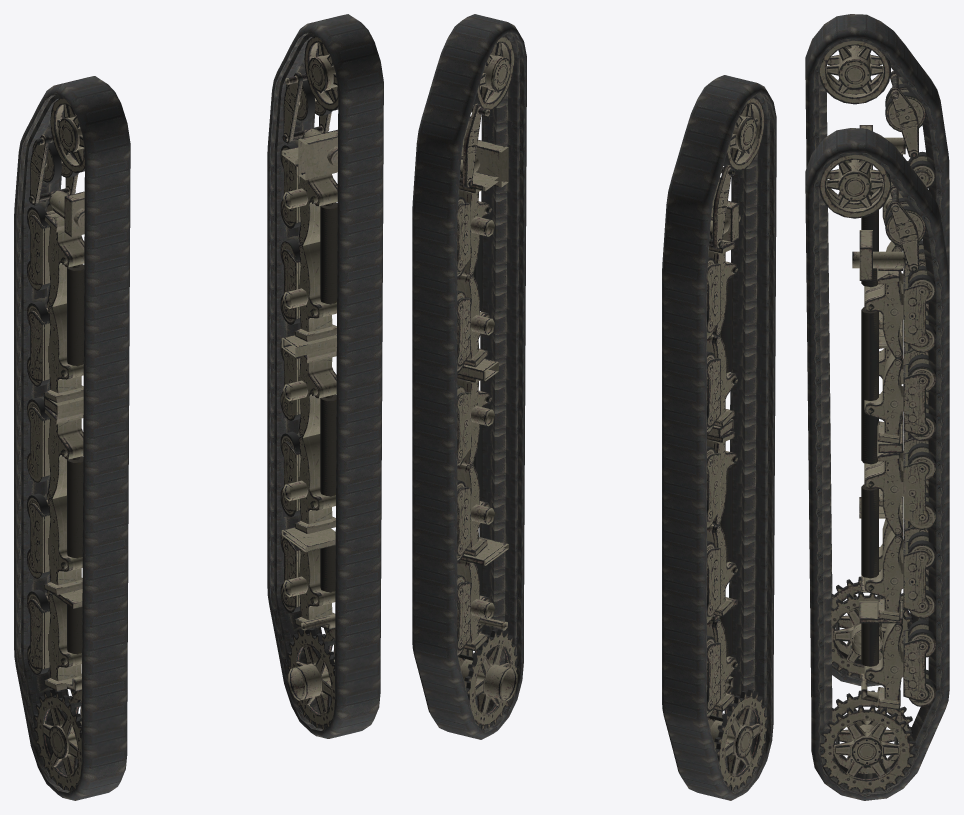
File: Chassis.glb
3 views of the same model, side by side, from view 1: azimuth 30°, elevation 25°; view 2: azimuth 150°, elevation 25°; view 3: azimuth 270°, elevation 25° (orthographic). The views are drawn at different scales.
Parts seen in each view (by area): view 1: set_0_group_0, set_1_group_0, set_5_group_0, set_3_group_0, set_2_group_0; view 2: set_0_group_0, set_1_group_0, set_5_group_0, set_3_group_0, set_4_group_0, set_2_group_0; view 3: set_5_group_0, set_1_group_0, set_3_group_0, set_0_group_0, set_4_group_0.
Part boxes in pixels (bbox=[...]): set_0_group_0: bbox=[14, 76, 130, 800]; set_1_group_0: bbox=[267, 14, 383, 738]; set_5_group_0: bbox=[280, 36, 338, 729]; set_3_group_0: bbox=[27, 98, 84, 791]; set_2_group_0: bbox=[28, 407, 49, 477]; set_0_group_0: bbox=[662, 75, 776, 800]; set_1_group_0: bbox=[412, 14, 526, 739]; set_5_group_0: bbox=[457, 36, 517, 729]; set_3_group_0: bbox=[707, 97, 767, 790]; set_4_group_0: bbox=[457, 391, 470, 461]; set_2_group_0: bbox=[707, 452, 720, 522]; set_5_group_0: bbox=[819, 154, 936, 792]; set_1_group_0: bbox=[805, 128, 949, 800]; set_3_group_0: bbox=[819, 40, 936, 678]; set_0_group_0: bbox=[805, 14, 949, 686]; set_4_group_0: bbox=[903, 451, 929, 524].
Bounding box in the file's own units: 2.47 × 5.6 × 1.11.
6 materials, 6 textured.
